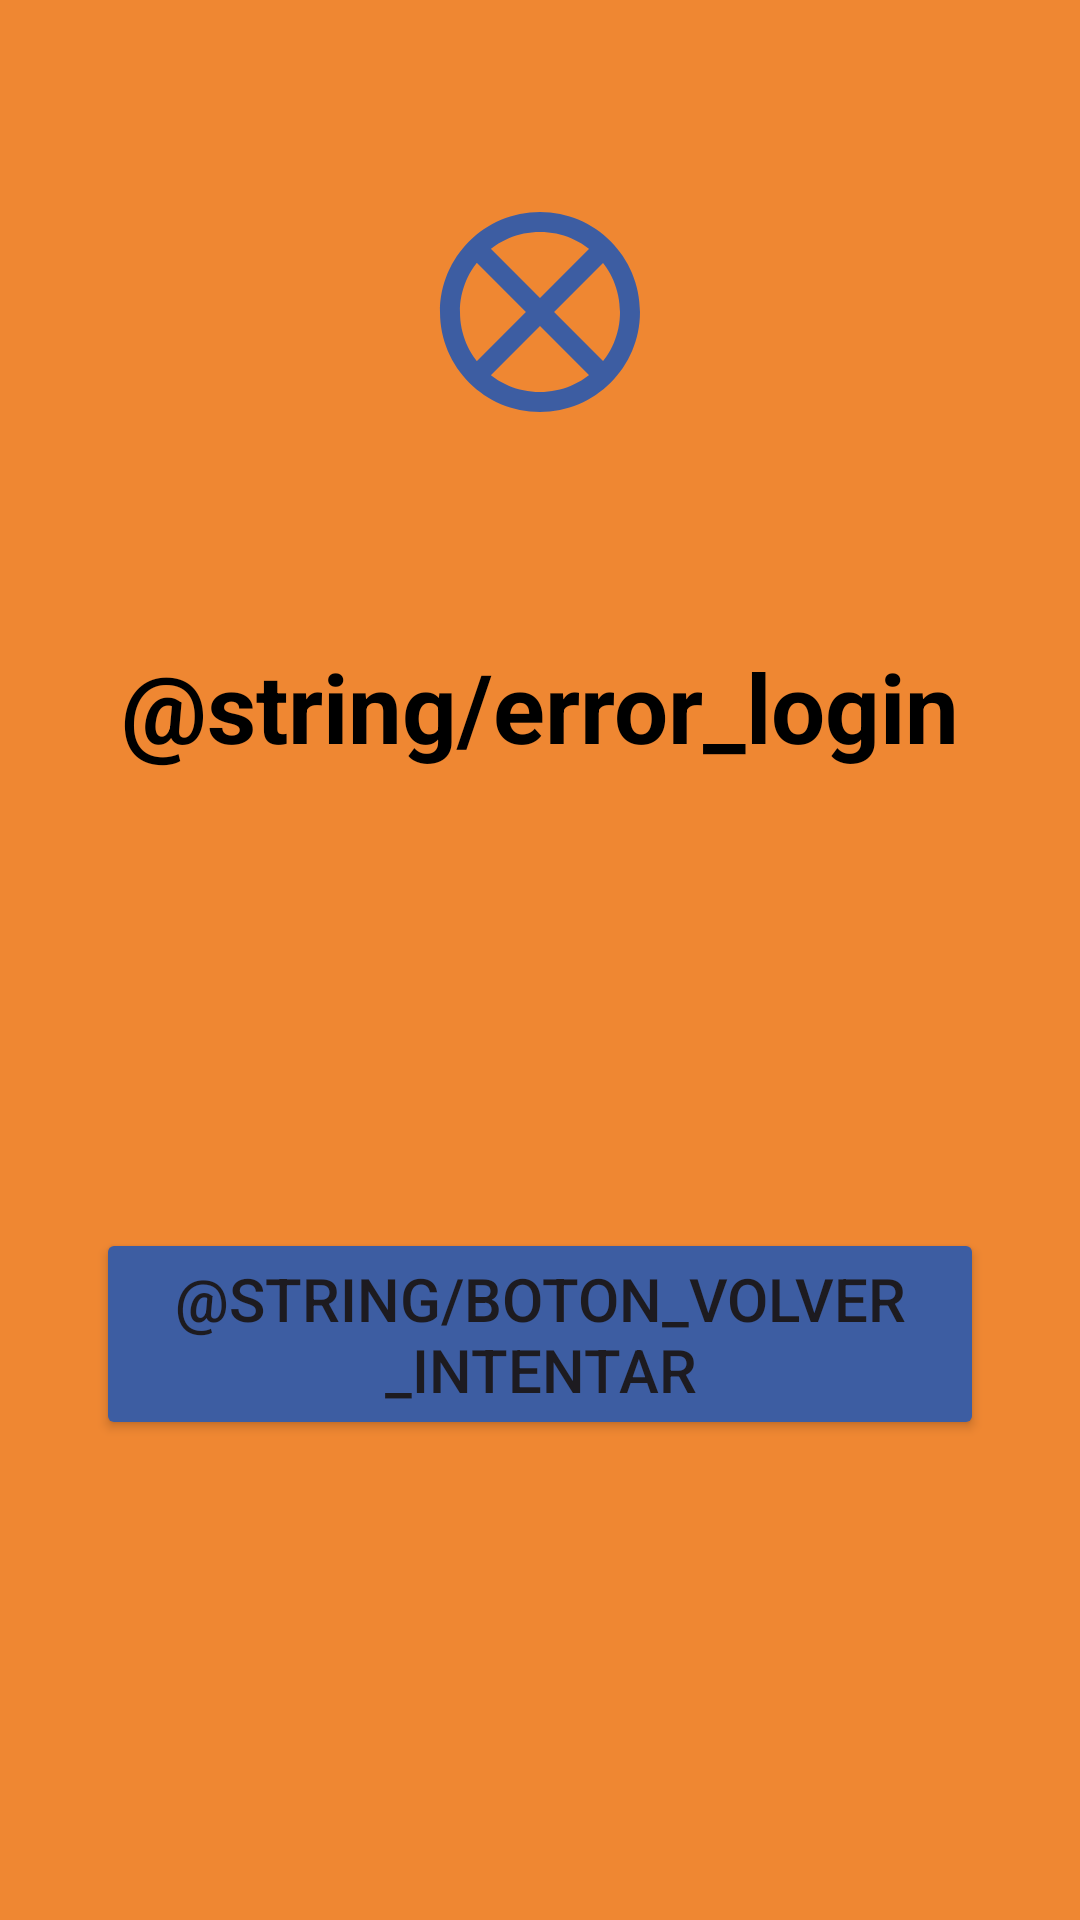

Where icons sit on this 1080×1920 app screen, as bbox=(x1, y1, x2, y2):
error circle: bbox=(440, 212, 640, 412)
